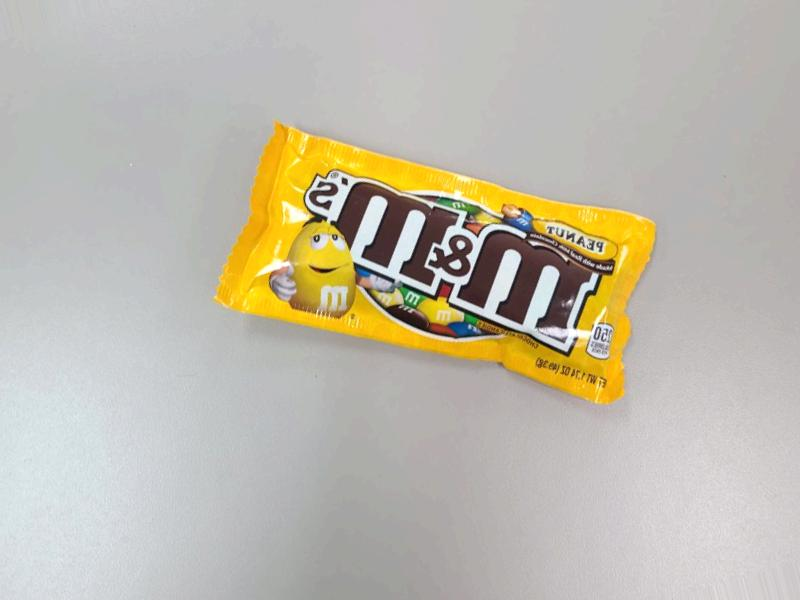m&m: (233, 113, 636, 395)
